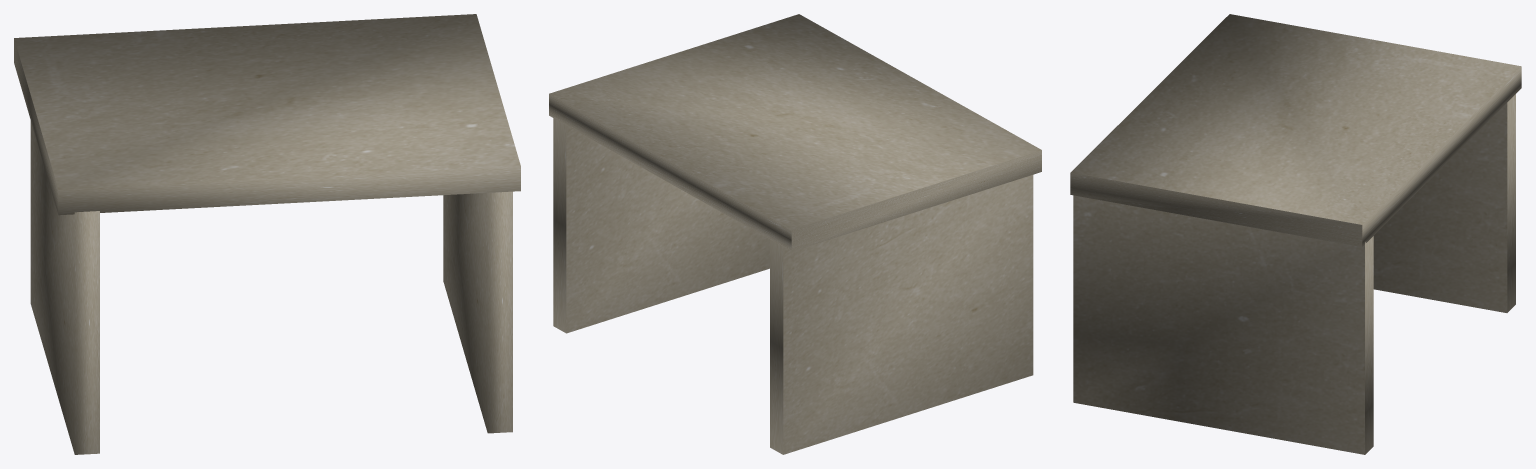
The model's file is stool.obj.
The picture shows the model from 3 angles, left to right: view 1: azimuth 30°, elevation 25°; view 2: azimuth 150°, elevation 25°; view 3: azimuth 270°, elevation 25°; orthographic projection. The views are drawn at different scales.
Visible parts, largest first — view 1: object_2, object_1, object_3; view 2: object_2, object_1, object_3; view 3: object_2, object_3, object_1.
Boxes of the visible parts, x1=… form: object_2: x1=14, y1=14, x2=520, y2=215; object_1: x1=30, y1=121, x2=99, y2=454; object_3: x1=443, y1=191, x2=512, y2=433; object_2: x1=549, y1=14, x2=1041, y2=251; object_1: x1=770, y1=175, x2=1033, y2=454; object_3: x1=553, y1=116, x2=769, y2=333; object_2: x1=1070, y1=14, x2=1521, y2=246; object_3: x1=1073, y1=195, x2=1373, y2=454; object_1: x1=1373, y1=94, x2=1515, y2=312.
Bounding box in the file's own units: 6.24 × 3.21 × 5.64.
Materials: 1 (1 with a texture image).
